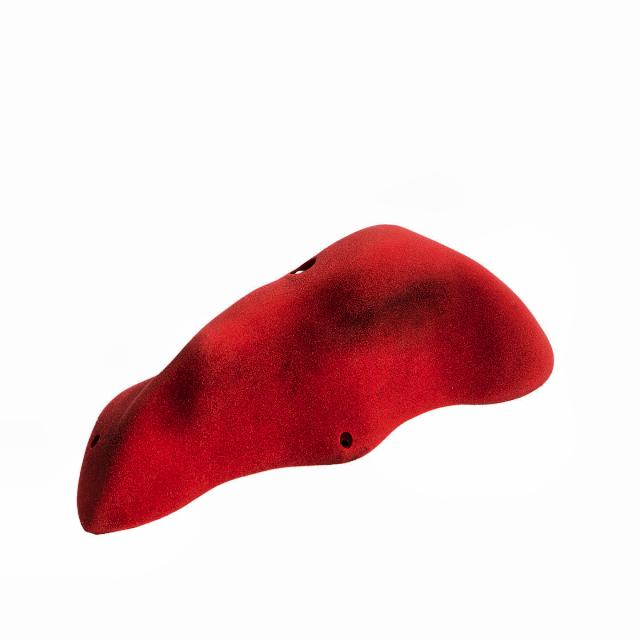Hold: (63, 207, 573, 550)
